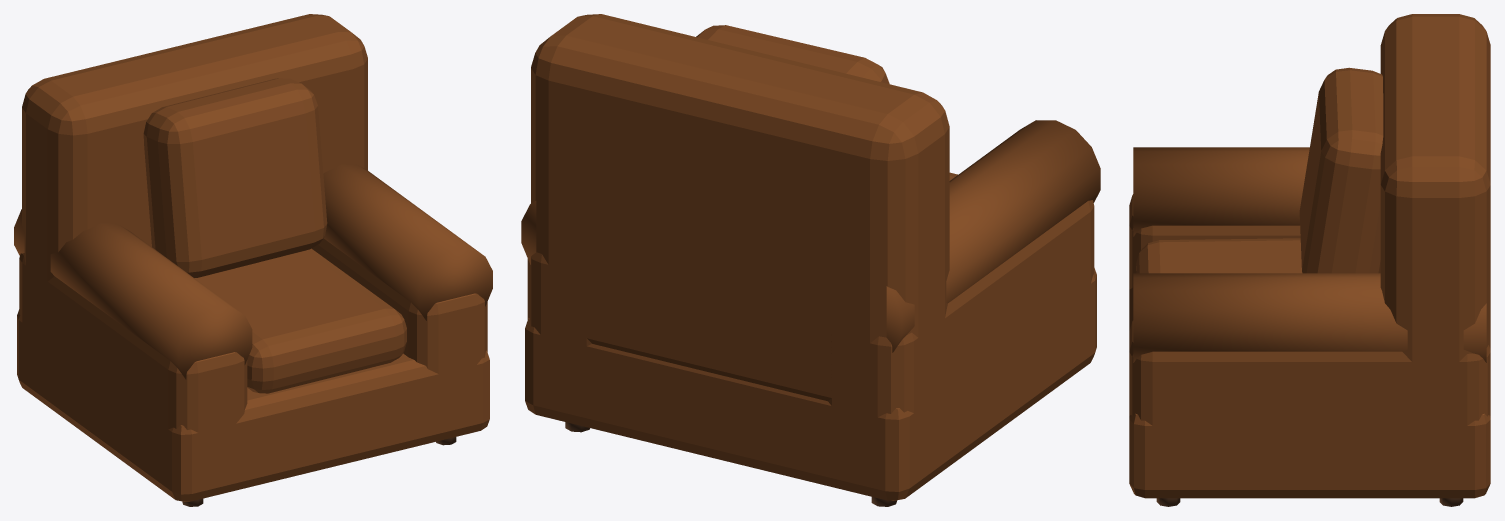
File: PoltronaMarromListrada.fbx
The picture shows the model from 3 angles, left to right: view 1: azimuth 30°, elevation 25°; view 2: azimuth 150°, elevation 25°; view 3: azimuth 270°, elevation 25°; orthographic projection. The views are drawn at different scales.
Visible parts, largest first — view 1: PoltronaMarromListrada; view 2: PoltronaMarromListrada; view 3: PoltronaMarromListrada.
Boxes of the visible parts, <box> form: PoltronaMarromListrada: <box>14,14,492,506</box>; PoltronaMarromListrada: <box>521,14,1100,506</box>; PoltronaMarromListrada: <box>1129,14,1490,506</box>.
Bounding box in the file's own units: 1 × 0.98 × 0.92.
